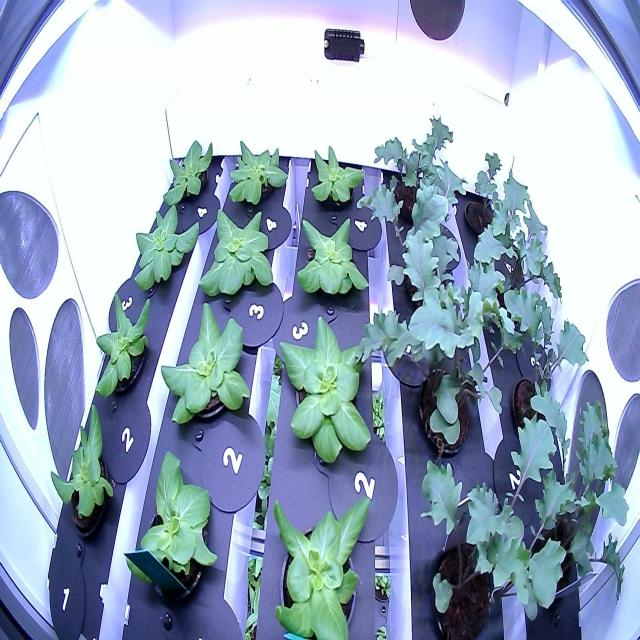young: (260, 484, 379, 640), (119, 443, 224, 619), (270, 313, 379, 472), (156, 295, 253, 438), (43, 395, 120, 545), (190, 205, 280, 306), (86, 280, 156, 408), (290, 212, 372, 315), (130, 194, 203, 296), (220, 130, 294, 214), (159, 127, 217, 209), (307, 137, 367, 213)
